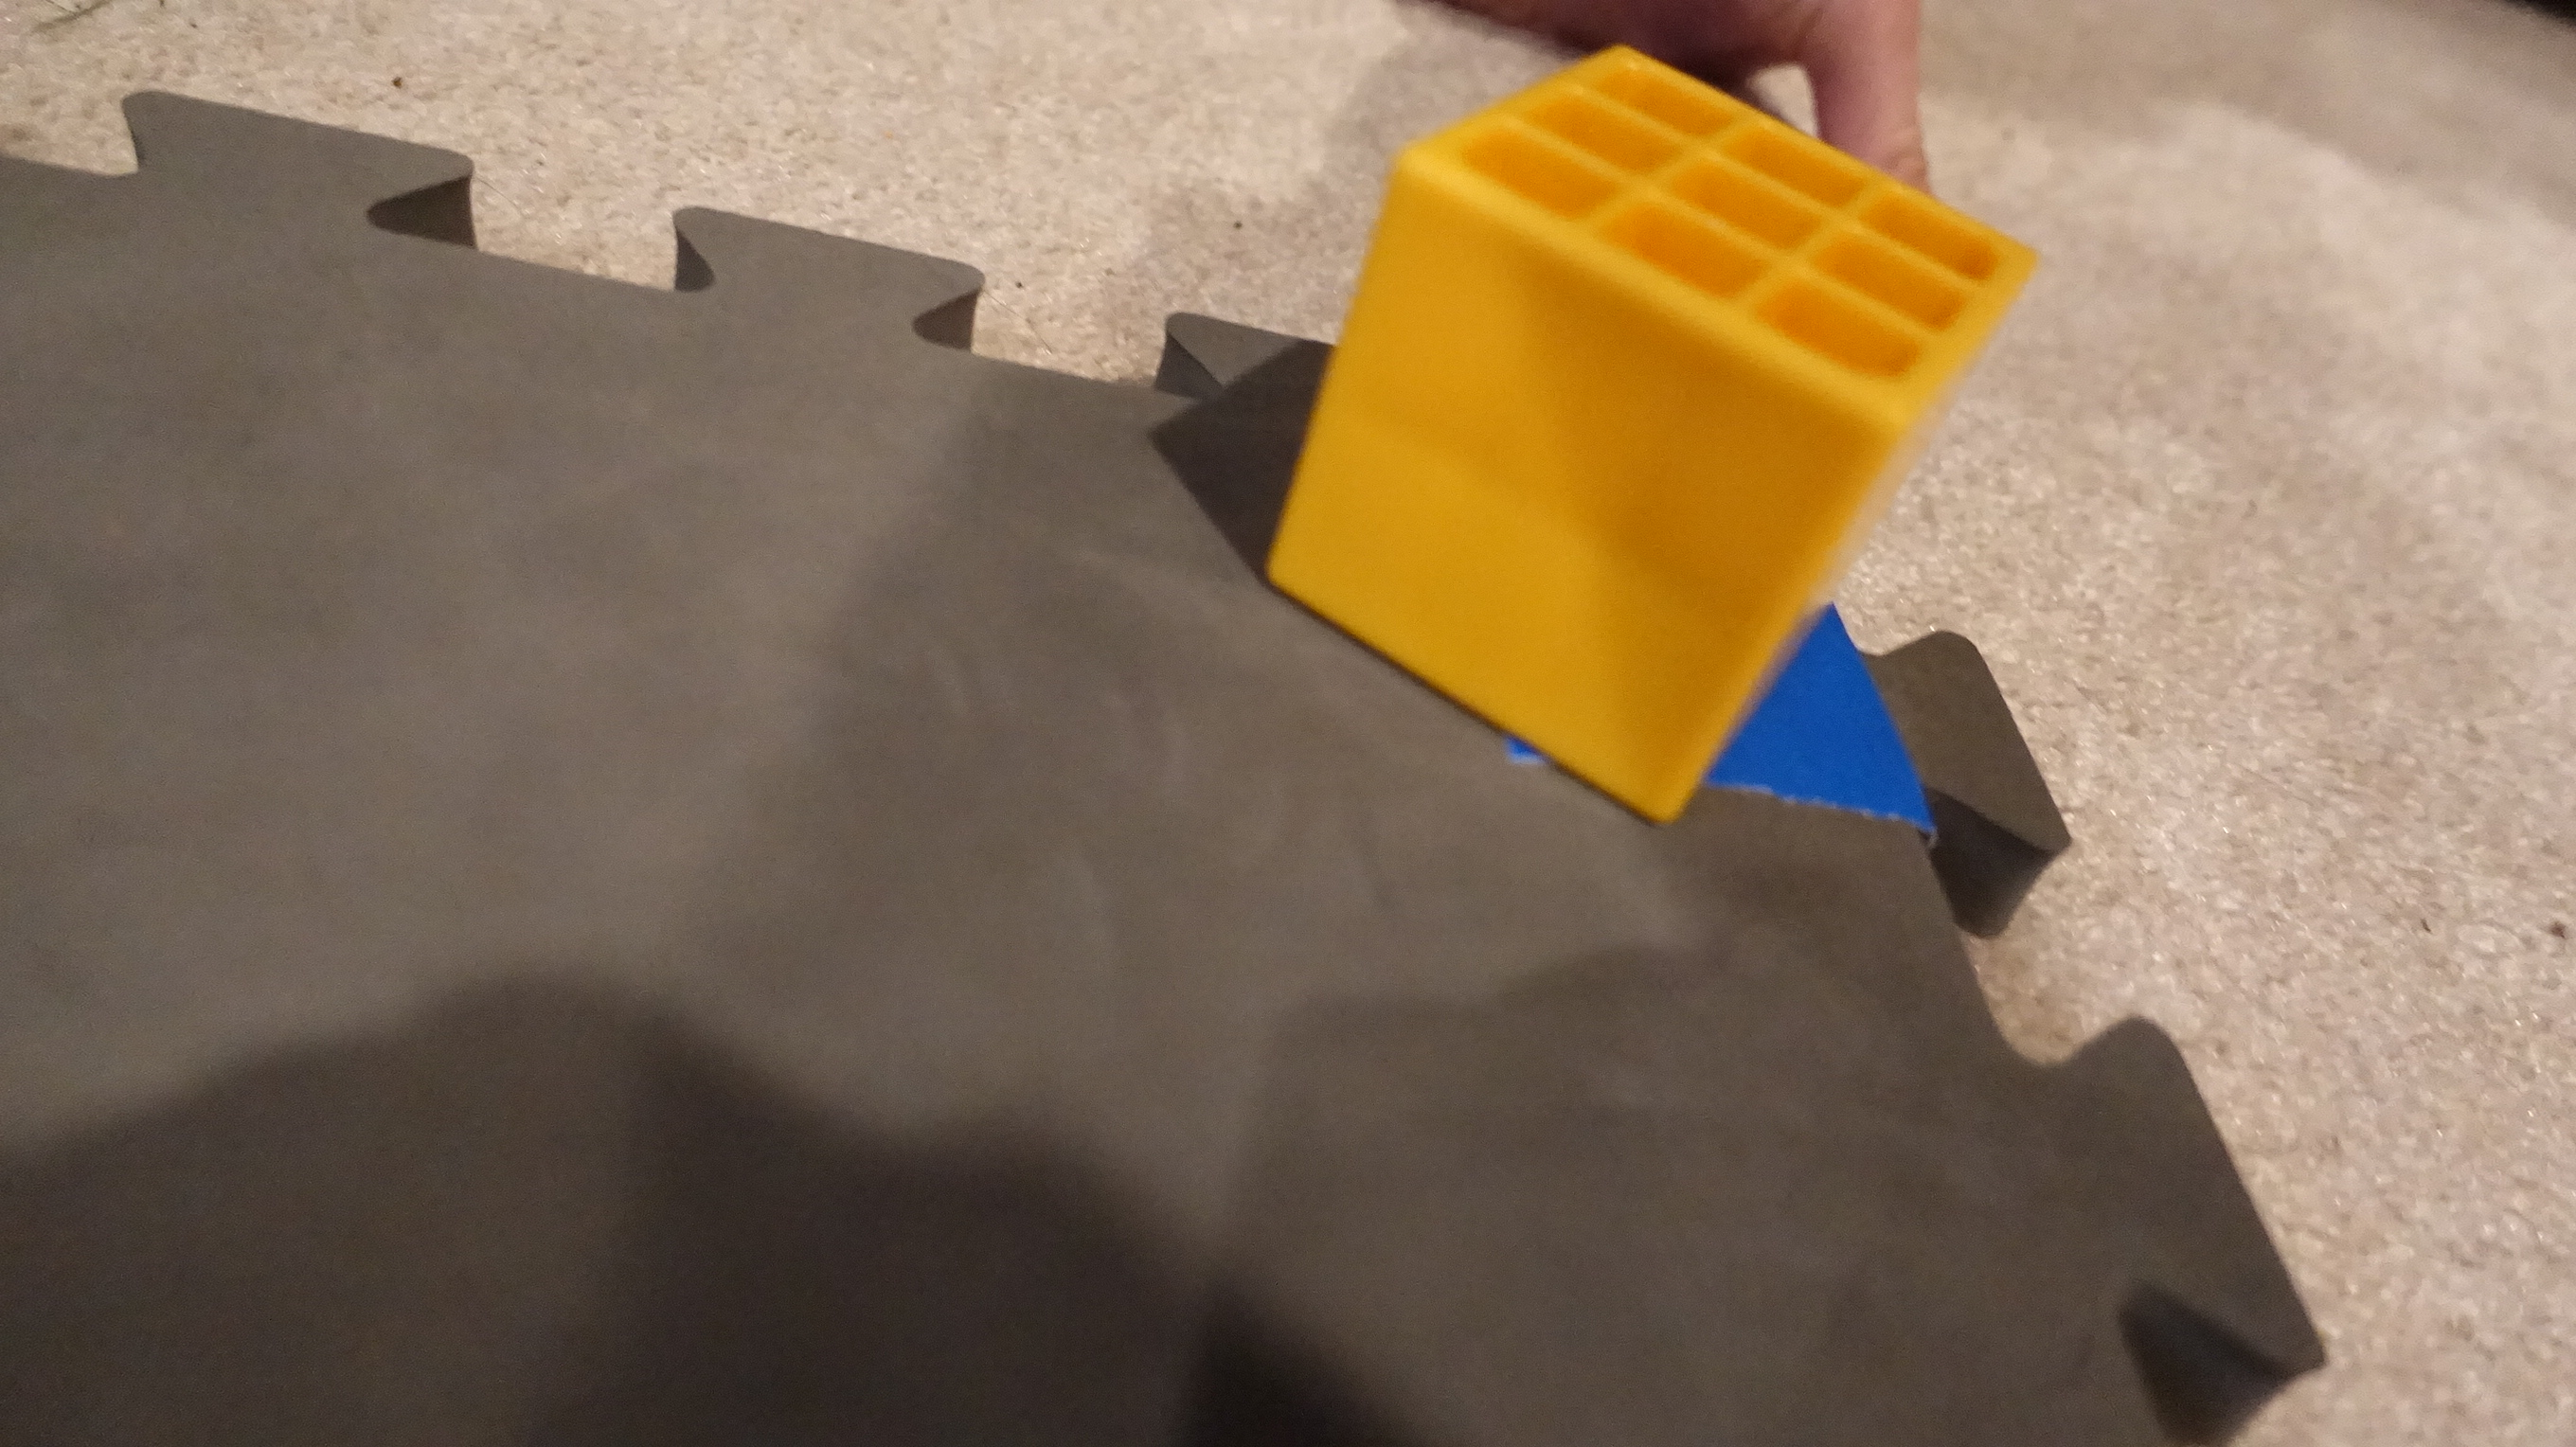gold: (1249, 34, 2047, 830)
